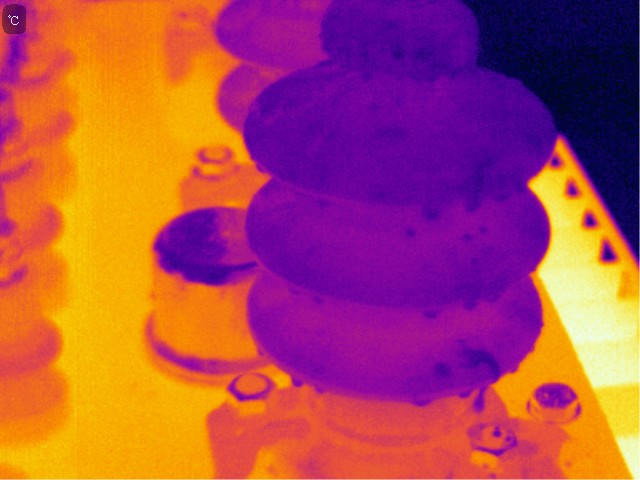Water: (462, 155, 488, 213), (458, 345, 504, 377), (375, 125, 409, 145), (471, 381, 488, 415), (323, 30, 345, 55), (425, 68, 459, 84), (459, 292, 482, 312), (420, 202, 443, 221), (413, 47, 439, 63), (390, 42, 409, 61), (413, 392, 434, 408), (422, 303, 439, 321), (487, 287, 505, 304), (252, 161, 269, 178), (433, 362, 452, 377), (289, 372, 305, 389), (312, 380, 329, 395), (312, 294, 327, 308), (286, 284, 303, 295), (508, 362, 522, 374), (513, 180, 526, 192), (527, 344, 538, 358), (459, 231, 472, 242), (456, 390, 471, 399), (476, 224, 489, 234), (255, 350, 269, 358), (491, 376, 501, 387), (404, 228, 416, 237)
